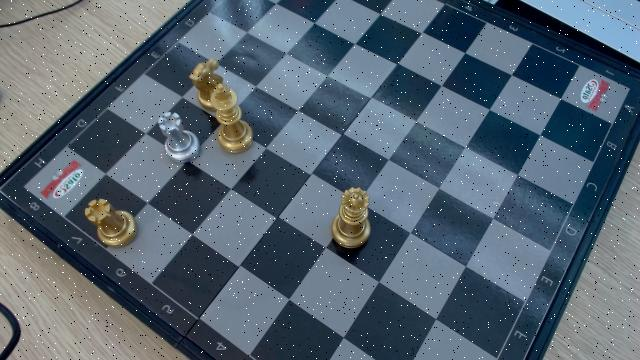black_king: (215, 84, 254, 153)
black_knight: (190, 59, 224, 85)
black_queen: (329, 186, 374, 249)
black_rook: (86, 198, 140, 248)
white_rook: (158, 113, 203, 163)
